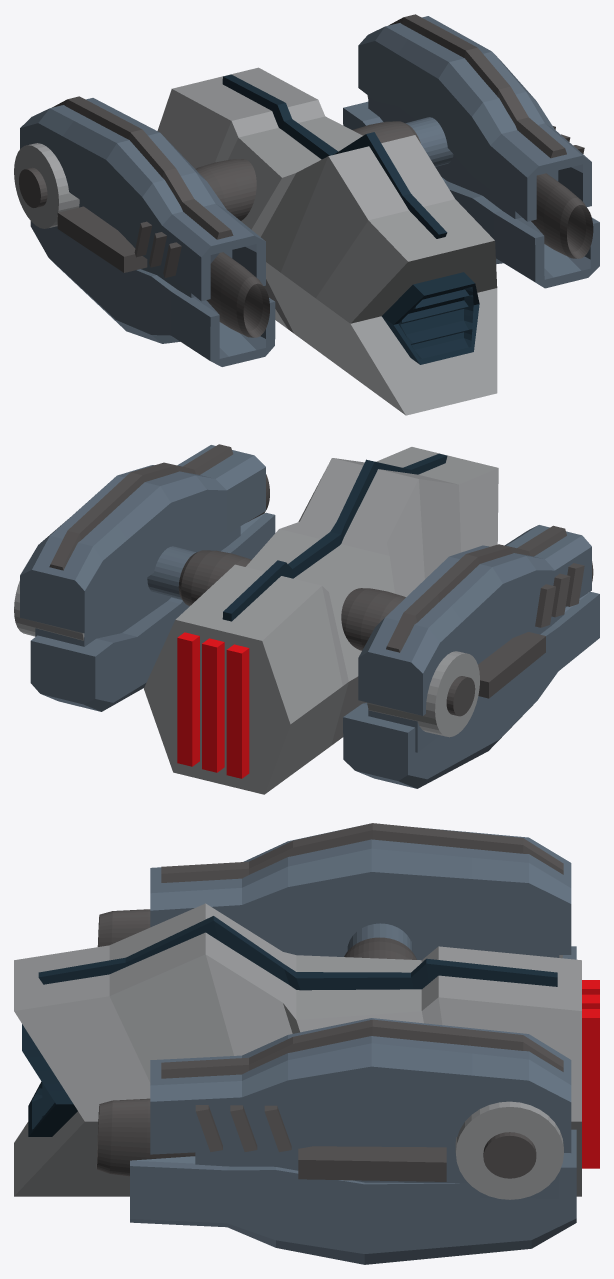
The model's file is Gegner13.fbx.
3 views of the same model, one above another, from view 1: azimuth 30°, elevation 25°; view 2: azimuth 150°, elevation 25°; view 3: azimuth 270°, elevation 25° (orthographic). The views are drawn at different scales.
Visible parts, largest first — view 1: Cube.001; view 2: Cube.001; view 3: Cube.001.
Part boxes in pixels (x1,y1,x2,y2): Cube.001: (14,14,599,415); Cube.001: (14,444,599,794); Cube.001: (14,823,599,1264).
Size of the model in its own units: 351 by 162 by 341.
